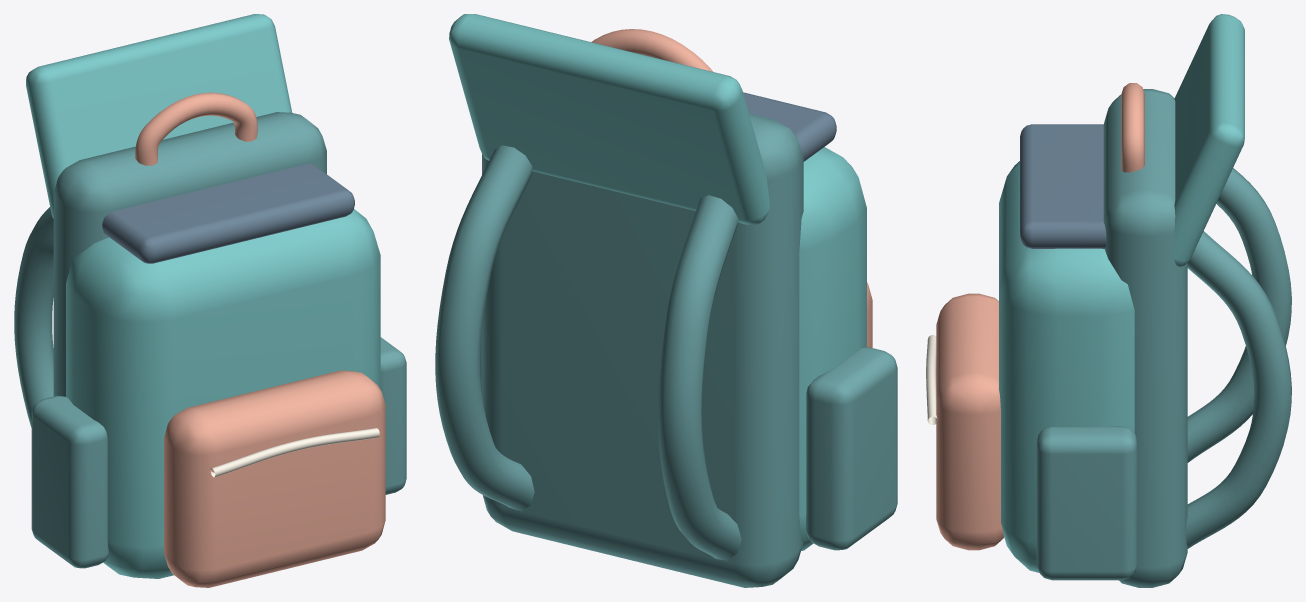
The model's file is BackpackOpen.fbx.
3 renders of one model, left to right at view 1: azimuth 30°, elevation 25°; view 2: azimuth 150°, elevation 25°; view 3: azimuth 270°, elevation 25°, orthographic. The views are drawn at different scales.
Visible parts, largest first — view 1: BagBody, FrontPocket, FoldedLid, PaddedBack, OpenMouth, SidePocket, PaddedStrap, CarryHandle, SidePocket.001, PocketZip; view 2: PaddedBack, FoldedLid, PaddedStrap.001, PaddedStrap, SidePocket, BagBody, OpenMouth, CarryHandle; view 3: BagBody, PaddedBack, FrontPocket, SidePocket.001, PaddedStrap.001, FoldedLid, OpenMouth, PaddedStrap, CarryHandle, PocketZip.
Boxes of the visible parts, left/top/right/bottom form: BagBody: left=66, top=209, right=380, bottom=578; FrontPocket: left=164, top=370, right=385, bottom=587; FoldedLid: left=26, top=14, right=292, bottom=218; PaddedBack: left=53, top=112, right=326, bottom=396; OpenMouth: left=102, top=163, right=354, bottom=263; SidePocket: left=31, top=396, right=108, bottom=568; PaddedStrap: left=14, top=207, right=53, bottom=427; CarryHandle: left=135, top=92, right=257, bottom=165; SidePocket.001: left=380, top=337, right=406, bottom=494; PocketZip: left=210, top=428, right=379, bottom=477; PaddedBack: left=482, top=113, right=803, bottom=587; FoldedLid: left=449, top=14, right=769, bottom=224; PaddedStrap.001: left=435, top=145, right=534, bottom=511; PaddedStrap: left=658, top=195, right=741, bottom=560; SidePocket: left=806, top=347, right=897, bottom=550; BagBody: left=799, top=147, right=866, bottom=550; OpenMouth: left=743, top=92, right=836, bottom=161; CarryHandle: left=591, top=29, right=712, bottom=71; BagBody: left=999, top=161, right=1134, bottom=572; PaddedBack: left=1103, top=89, right=1187, bottom=587; FrontPocket: left=936, top=293, right=1003, bottom=550; SidePocket.001: left=1036, top=426, right=1137, bottom=580; PaddedStrap.001: left=1186, top=231, right=1291, bottom=548; FoldedLid: left=1173, top=14, right=1244, bottom=266; OpenMouth: left=1020, top=124, right=1106, bottom=248; PaddedStrap: left=1187, top=168, right=1291, bottom=462; CarryHandle: left=1121, top=83, right=1144, bottom=172; PocketZip: left=926, top=335, right=937, bottom=424.
Size of the model in its own units: 47.1 by 61.49 by 43.64.
